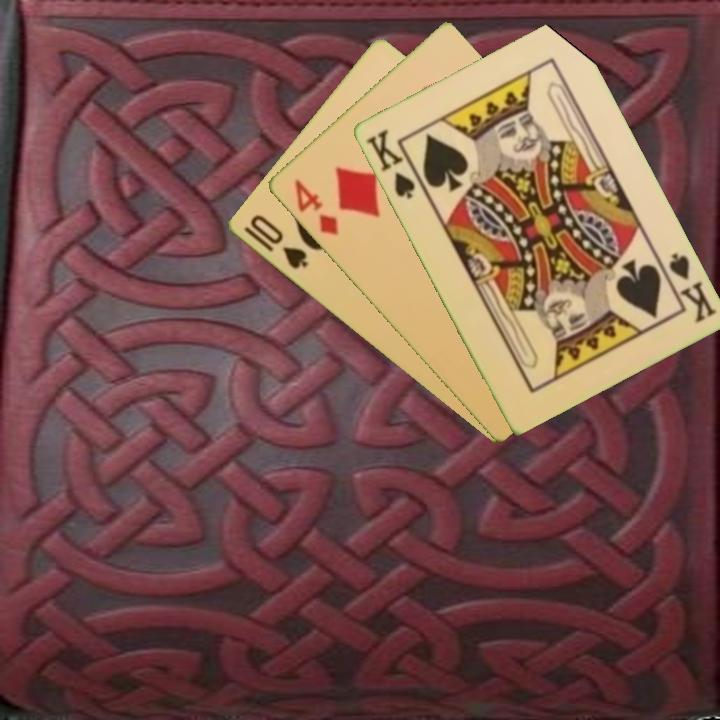10s: (245, 211, 311, 272)
4d: (290, 176, 341, 239)
Ks: (655, 249, 719, 326), (362, 125, 425, 202)
